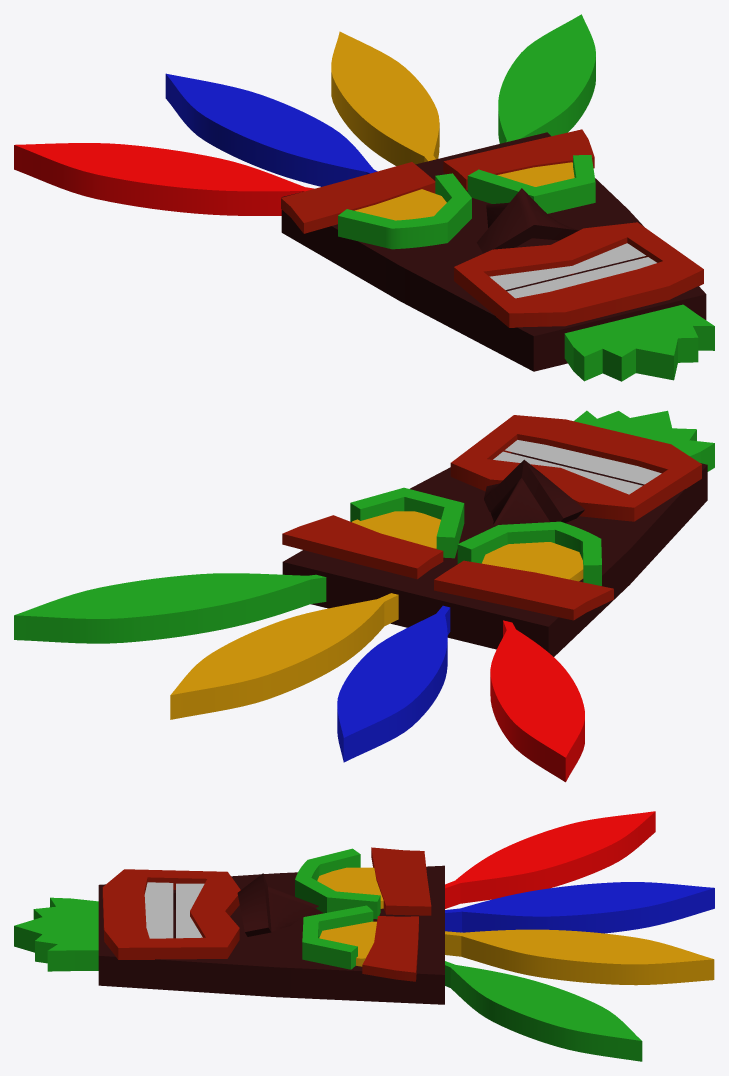
Rendered from aku.fbx.
The picture shows the model from 3 angles, top to bottom: view 1: azimuth 30°, elevation 25°; view 2: azimuth 150°, elevation 25°; view 3: azimuth 270°, elevation 25°; orthographic projection. The views are drawn at different scales.
Visible parts, largest first — view 1: AkuAku; view 2: AkuAku; view 3: AkuAku.
Part boxes in pixels (x1,y1,x2,y2): AkuAku: (14,14,714,381); AkuAku: (14,410,714,782); AkuAku: (14,811,714,1061).
Size of the model in its own units: 41.6 by 6.49 by 53.59.
